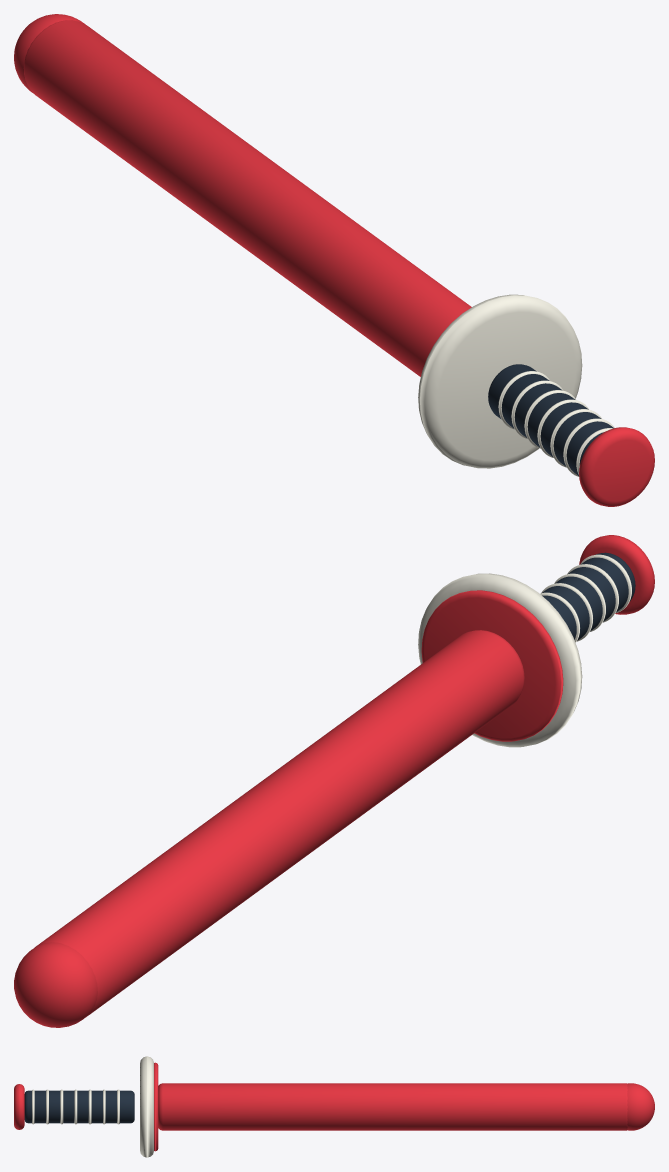
Rendered from ChambaraOriginalSword.fbx.
The picture shows the model from 3 angles, top to bottom: view 1: azimuth 30°, elevation 25°; view 2: azimuth 150°, elevation 25°; view 3: azimuth 270°, elevation 25°; orthographic projection. The views are drawn at different scales.
Visible parts, largest first — view 1: Baked_ORIGINAL-RED_Sword_blade, Baked_ORIGINAL-RED_Sword_guard, Baked_ORIGINAL-RED_Sword_grip, Baked_ORIGINAL-RED_Sword_pommel, Baked_ORIGINAL-RED_Sword_rounded_tip; view 2: Baked_ORIGINAL-RED_Sword_blade, Baked_ORIGINAL-RED_Sword_guard_color, Baked_ORIGINAL-RED_Sword_rounded_tip, Baked_ORIGINAL-RED_Sword_guard, Baked_ORIGINAL-RED_Sword_grip, Baked_ORIGINAL-RED_Sword_pommel; view 3: Baked_ORIGINAL-RED_Sword_blade, Baked_ORIGINAL-RED_Sword_grip, Baked_ORIGINAL-RED_Sword_guard, Baked_ORIGINAL-RED_Sword_rounded_tip, Baked_ORIGINAL-RED_Sword_pommel, Baked_ORIGINAL-RED_Sword_guard_color.
Boxes of the visible parts, x1,y1,x2,y2 form: Baked_ORIGINAL-RED_Sword_blade: (23, 20, 471, 376); Baked_ORIGINAL-RED_Sword_guard: (418, 294, 582, 468); Baked_ORIGINAL-RED_Sword_grip: (488, 364, 613, 475); Baked_ORIGINAL-RED_Sword_pommel: (579, 427, 654, 506); Baked_ORIGINAL-RED_Sword_rounded_tip: (14, 14, 84, 93); Baked_ORIGINAL-RED_Sword_blade: (34, 630, 524, 1017); Baked_ORIGINAL-RED_Sword_guard_color: (421, 590, 563, 741); Baked_ORIGINAL-RED_Sword_rounded_tip: (14, 942, 97, 1027); Baked_ORIGINAL-RED_Sword_guard: (418, 573, 582, 747); Baked_ORIGINAL-RED_Sword_grip: (542, 552, 635, 640); Baked_ORIGINAL-RED_Sword_pommel: (579, 535, 654, 614); Baked_ORIGINAL-RED_Sword_blade: (158, 1083, 627, 1130); Baked_ORIGINAL-RED_Sword_grip: (24, 1090, 134, 1123); Baked_ORIGINAL-RED_Sword_guard: (140, 1056, 153, 1157); Baked_ORIGINAL-RED_Sword_rounded_tip: (627, 1083, 654, 1130); Baked_ORIGINAL-RED_Sword_pommel: (14, 1084, 24, 1129); Baked_ORIGINAL-RED_Sword_guard_color: (154, 1062, 158, 1151).
Size of the model in its own units: 37.03 by 37.03 by 234.
